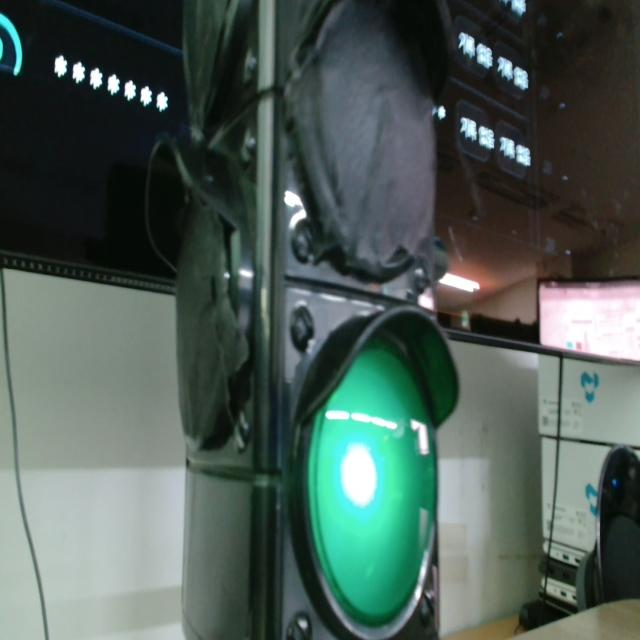green_light: (308, 341, 436, 626), (341, 444, 377, 507)
